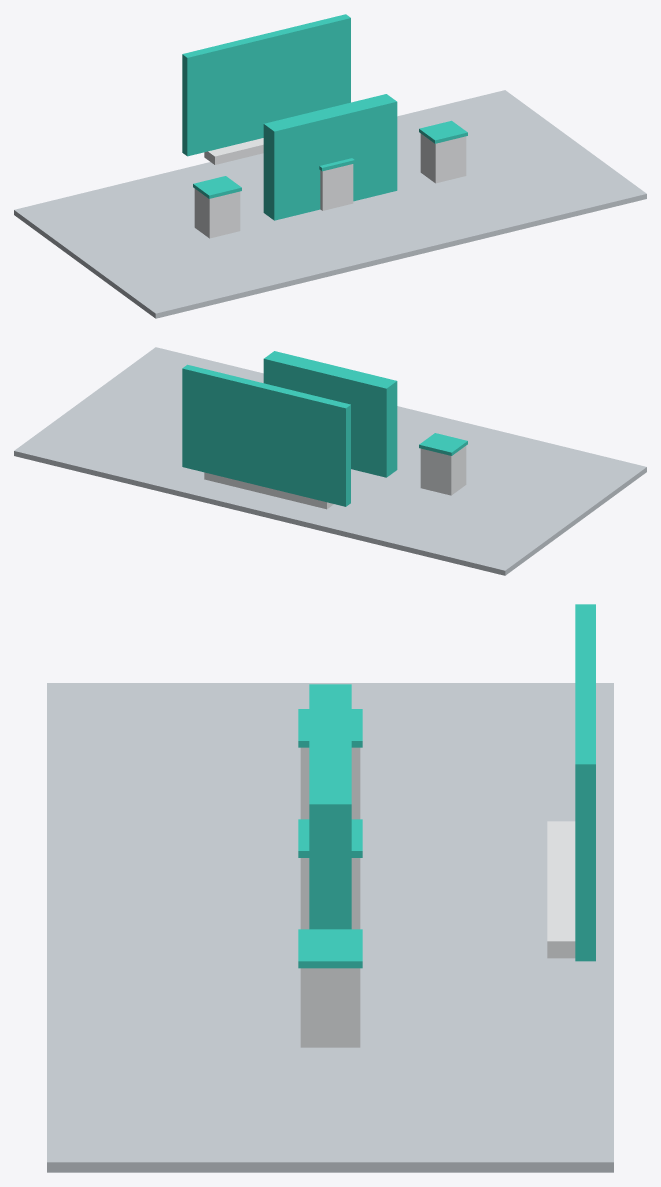
The picture shows the model from 3 angles, top to bottom: view 1: azimuth 30°, elevation 25°; view 2: azimuth 150°, elevation 25°; view 3: azimuth 270°, elevation 25°; orthographic projection. The views are drawn at different scales.
Parts seen in each view (by area): view 1: Exhibition Booth Concept; view 2: Exhibition Booth Concept; view 3: Exhibition Booth Concept.
Boxes of the visible parts, x1,y1,x2,y2 form: Exhibition Booth Concept: [14, 14, 646, 318]; Exhibition Booth Concept: [14, 347, 646, 575]; Exhibition Booth Concept: [47, 604, 613, 1172].
Size of the model in its own units: 12 by 2.9 by 6.
